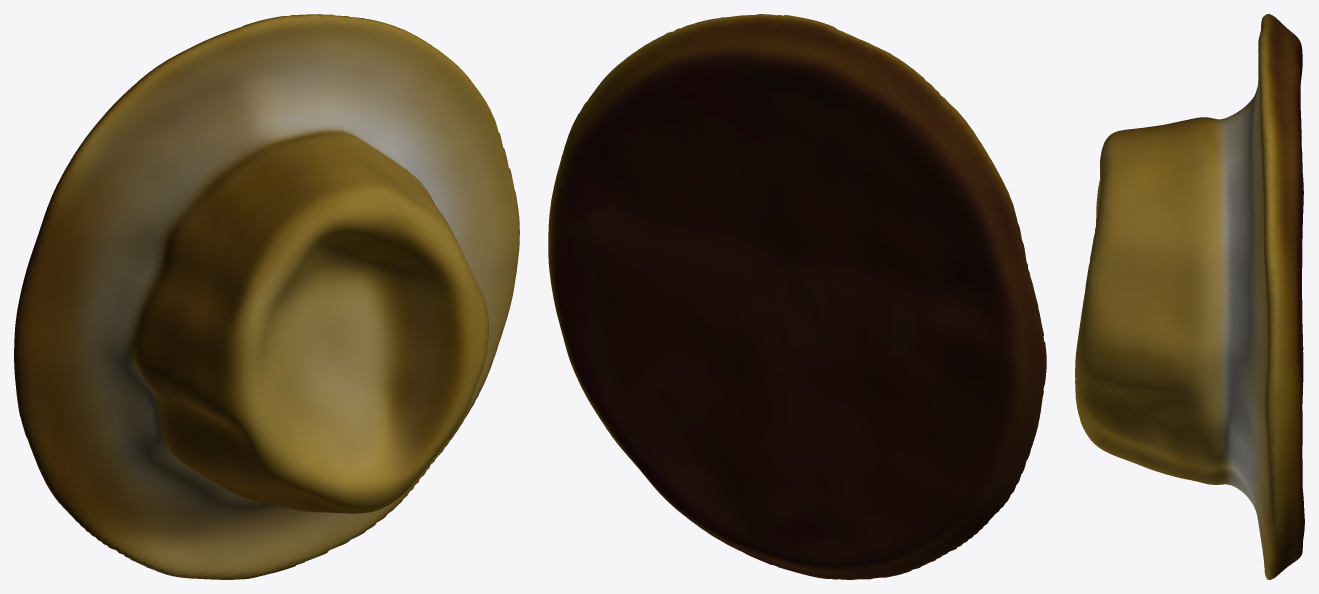
The model's file is hat.glb.
3 views of the same model, side by side, from view 1: azimuth 30°, elevation 25°; view 2: azimuth 150°, elevation 25°; view 3: azimuth 270°, elevation 25° (orthographic). The views are drawn at different scales.
Bounding box in the file's own units: 0.9412 × 0.999 × 0.4065.
